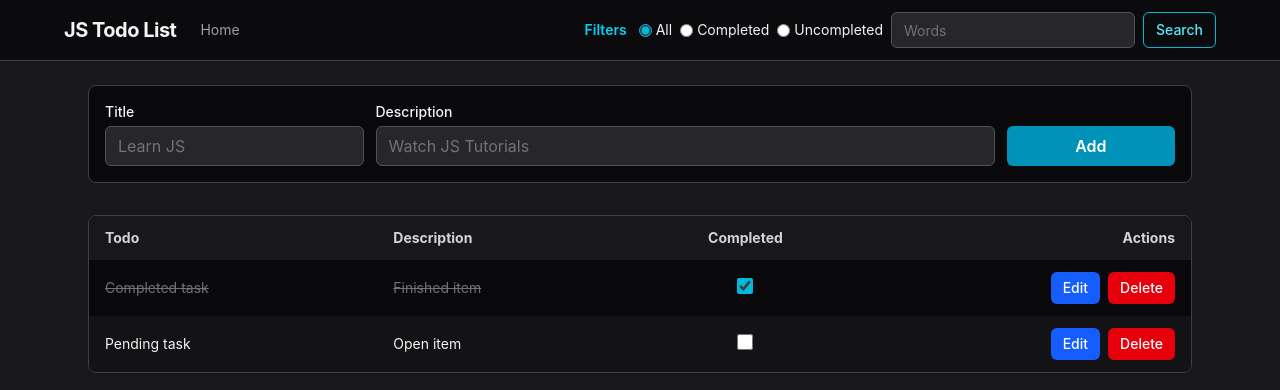
Test: US7 - Status Filters › shows only uncompleted tasks when Uncompleted filter is selected
Expected: the text "Pending task" is shown, [89,316,377,372]
Click the radio button labelled "Uncompleted" at x=784, y=30, box [777,24,790,36]
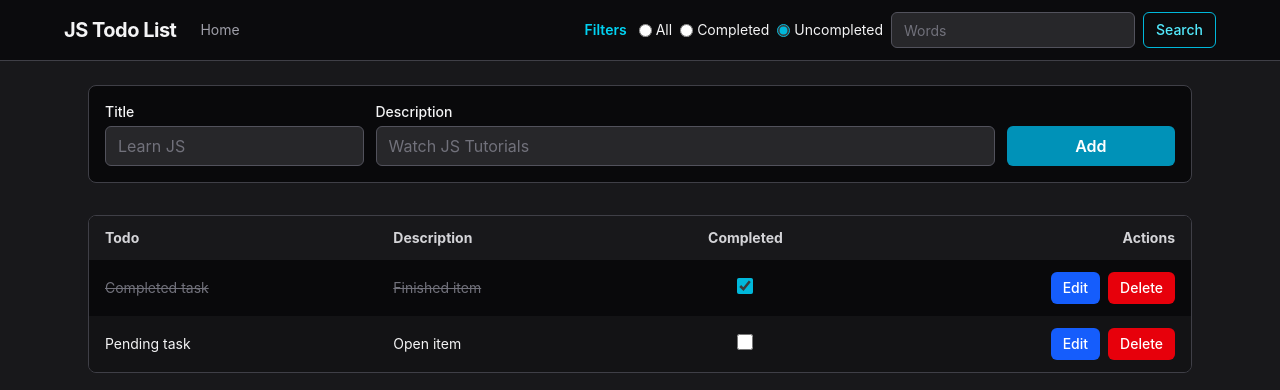
Click the button "Search" at x=1180, y=30, box [1143,12,1216,48]
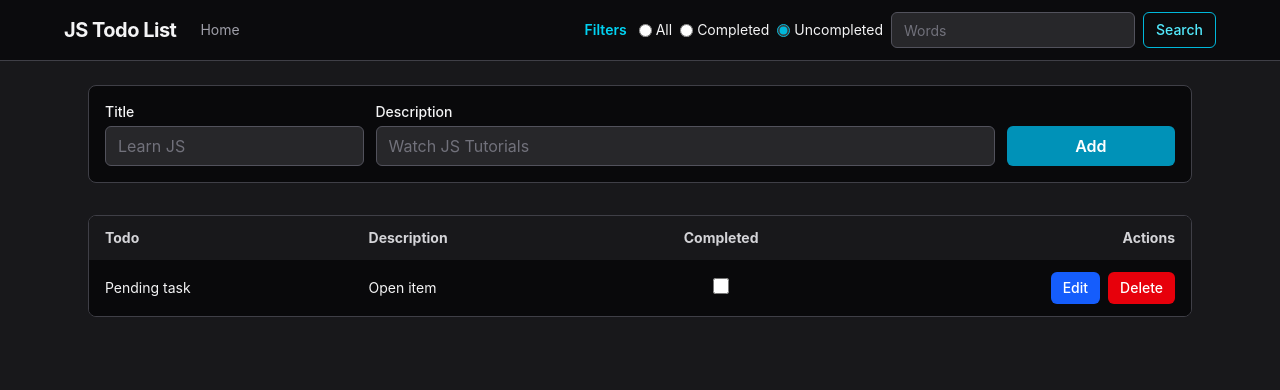
Expected: the text "Pending task" is shown, [89,260,352,316]
Now the text "Completed task" is gone
